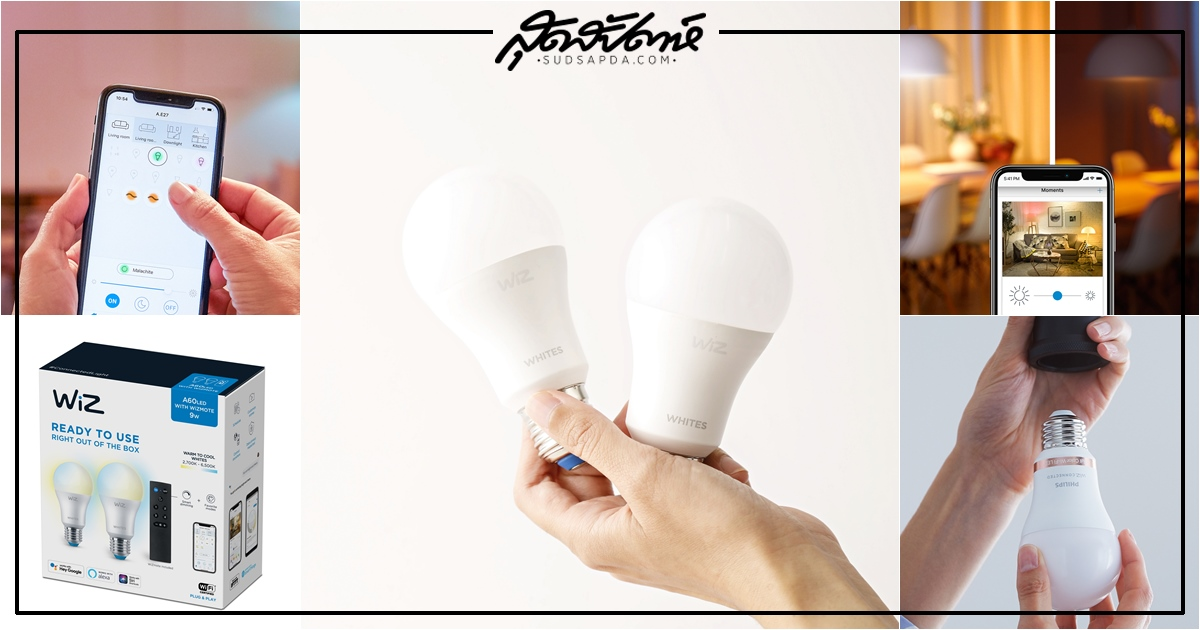Light_bulb: (391, 156, 602, 489), (614, 191, 794, 471), (1014, 409, 1141, 609)
